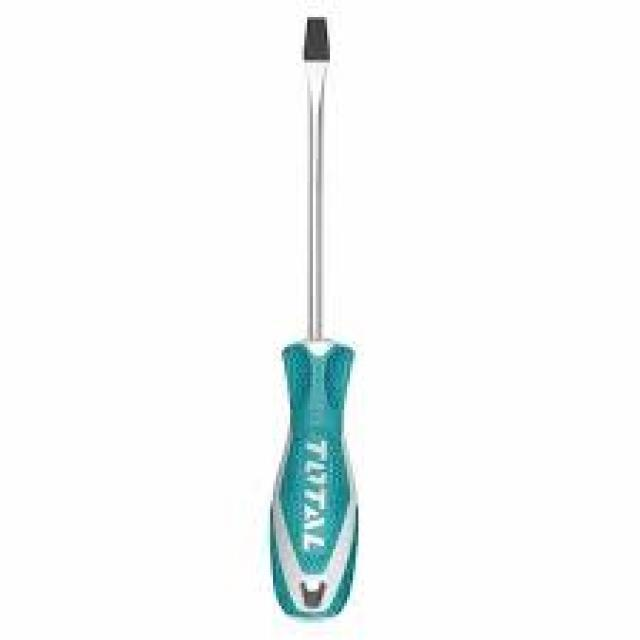screwdriver: (266, 12, 360, 624)
